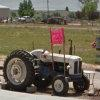Tractor: (8, 29, 89, 94)
